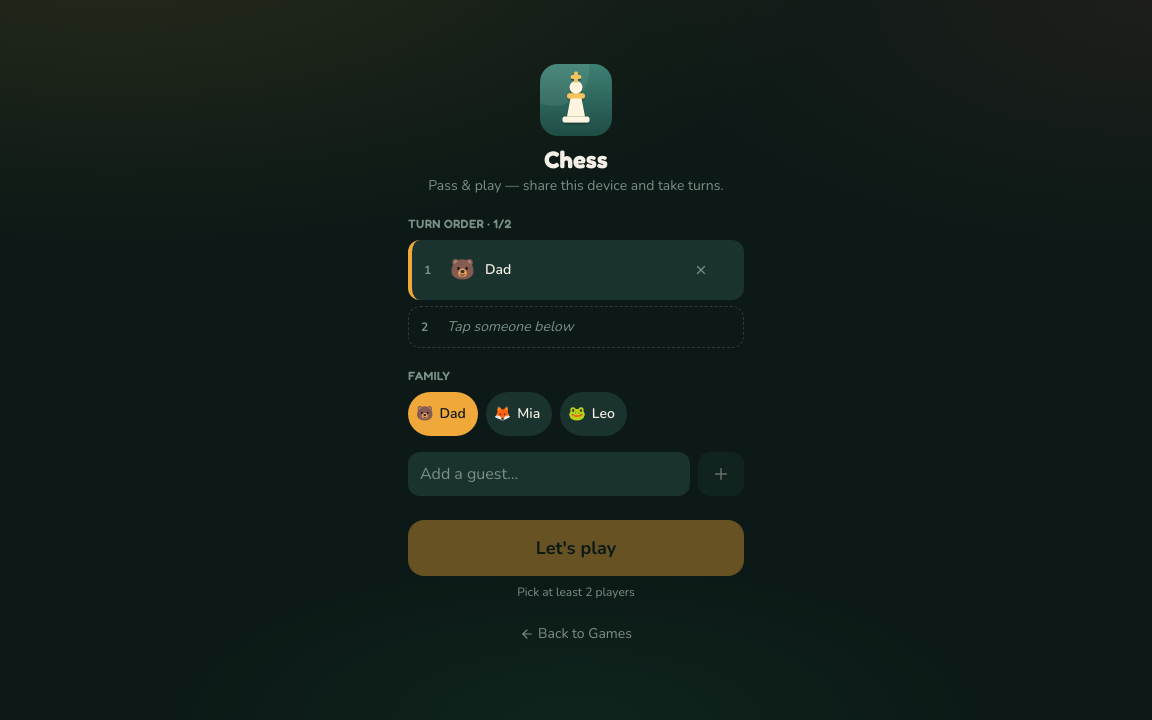
it: SeatPicker › a full table disables everyone else
What coordinates should you click on to do the following:
click the button "🦊 Mia"
I would click on:
 (519, 414)
Its box is [486,392,552,436].
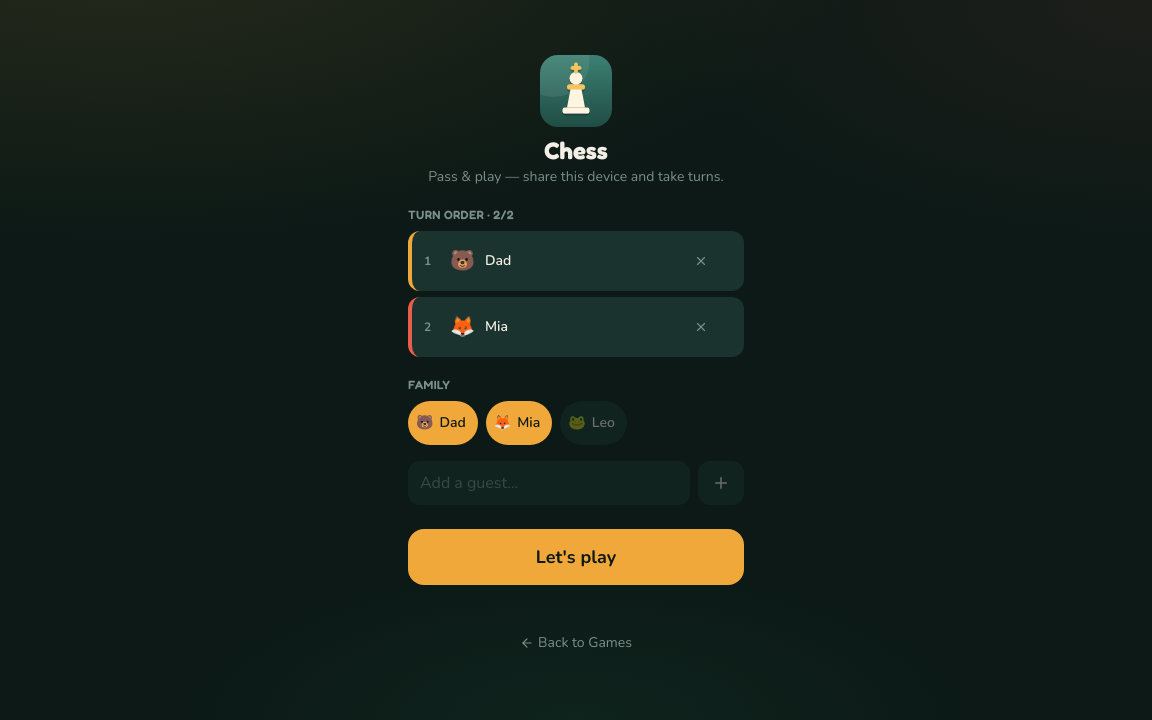
Check: the button "🐸 Leo" is disabled, box [560,401,627,445]
Check: the field named "Guest name" is disabled, box [408,461,690,505]
